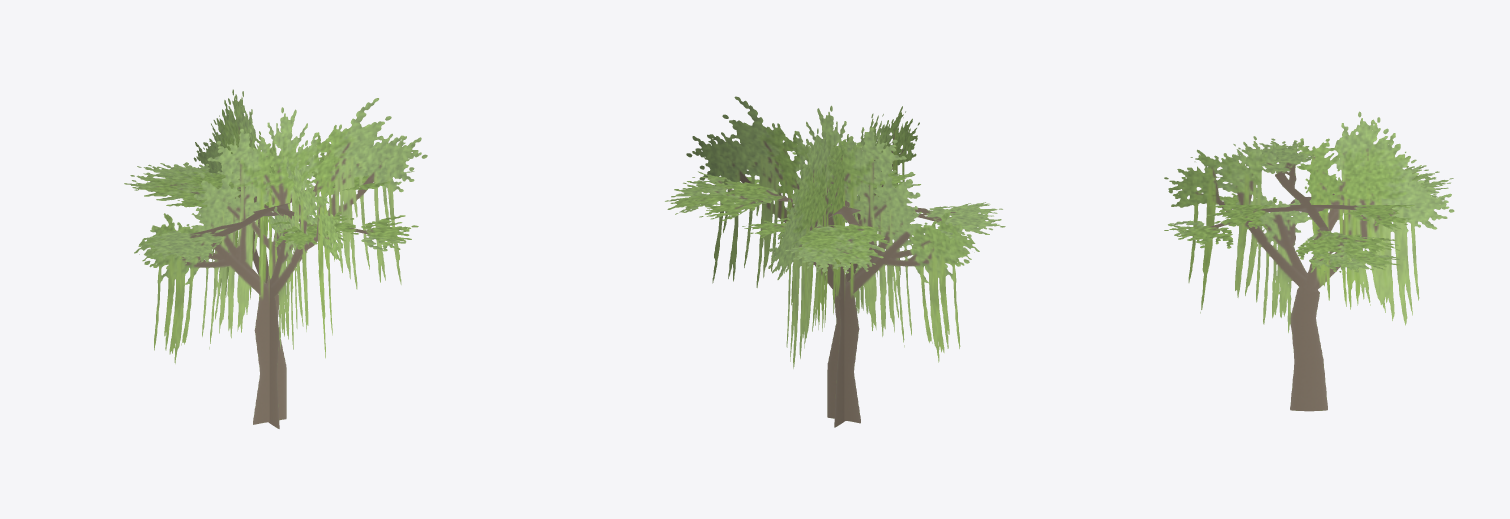
The model's file is willow_1_far.glb.
The picture shows the model from 3 angles, left to right: view 1: azimuth 30°, elevation 25°; view 2: azimuth 150°, elevation 25°; view 3: azimuth 270°, elevation 25°; orthographic projection. The views are drawn at different scales.
Parts seen in each view (by area): view 1: willow_1_far; view 2: willow_1_far; view 3: willow_1_far.
Boxes of the visible parts, bbox=[...] form: willow_1_far: bbox=[124, 89, 427, 428]; willow_1_far: bbox=[665, 96, 1005, 427]; willow_1_far: bbox=[1164, 111, 1454, 411].
Size of the model in its own units: 9.44 by 9.44 by 9.44.
1 material, 1 textured.
